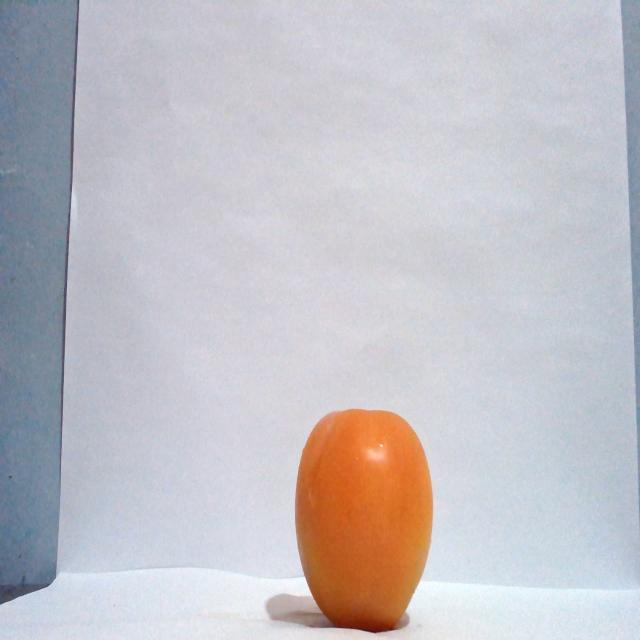Red: (292, 406, 434, 632)
